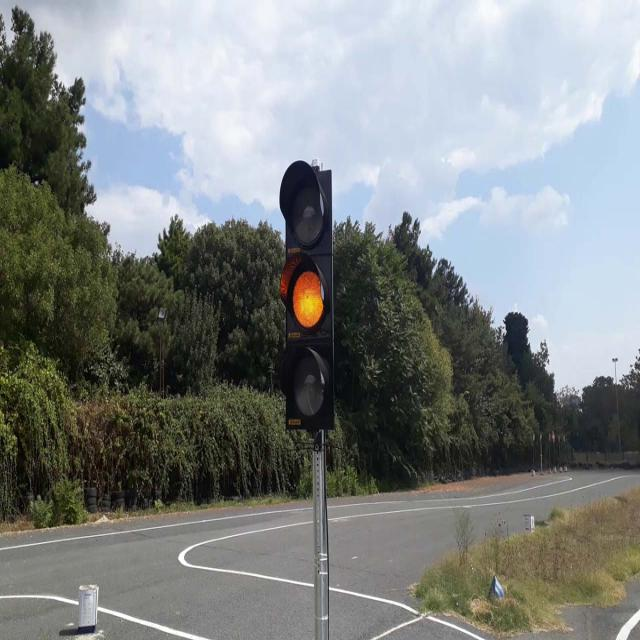sari: (279, 164, 333, 426)
